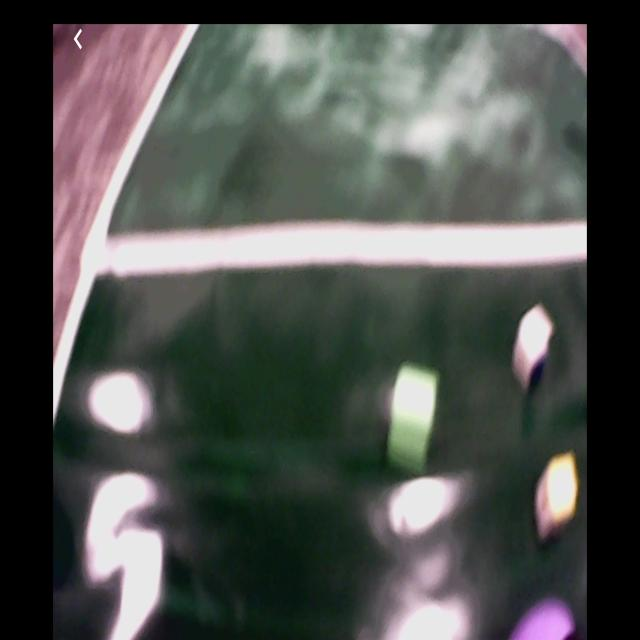ball: (514, 601, 575, 640)
